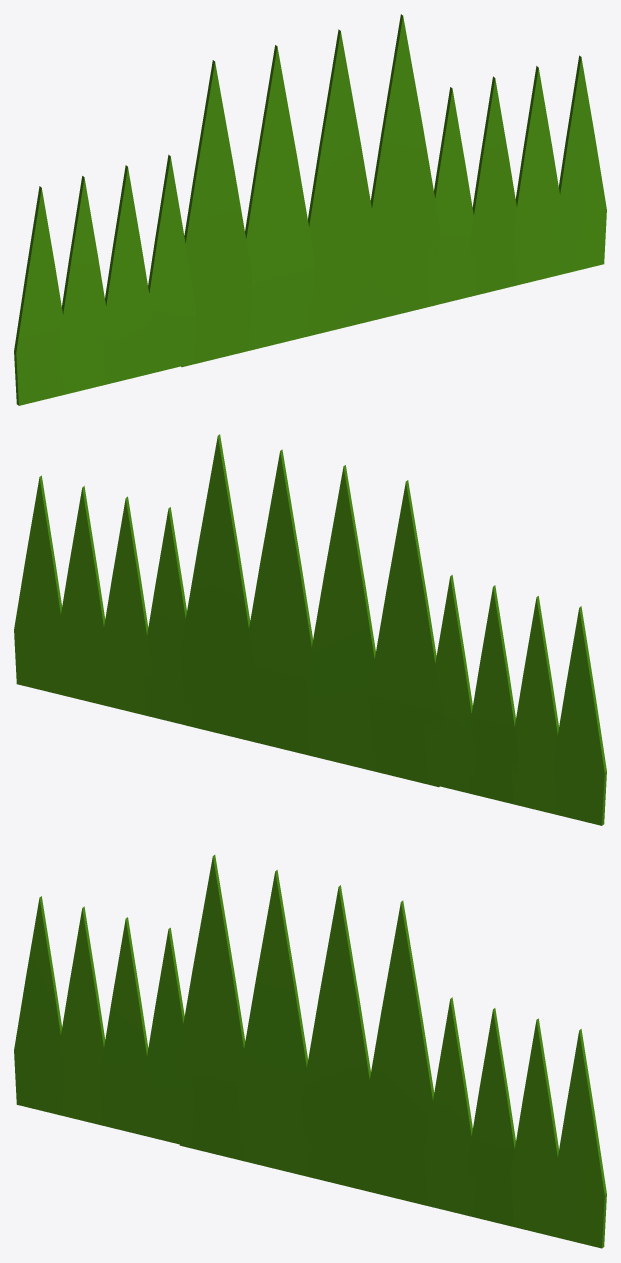
File: Grass.glb
3 renders of one model, top to bottom at view 1: azimuth 30°, elevation 25°; view 2: azimuth 150°, elevation 25°; view 3: azimuth 330°, elevation 25°, orthographic.
Parts seen in each view (by area): view 1: Plane; view 2: Plane; view 3: Plane.
Boxes of the visible parts, x1=… form: Plane: x1=14, y1=14, x2=606, y2=405; Plane: x1=14, y1=434, x2=606, y2=825; Plane: x1=14, y1=855, x2=606, y2=1248.
Bounding box in the file's own units: 1.42 × 0.685 × 0.00949.
Materials: 1 (1 with a texture image).
